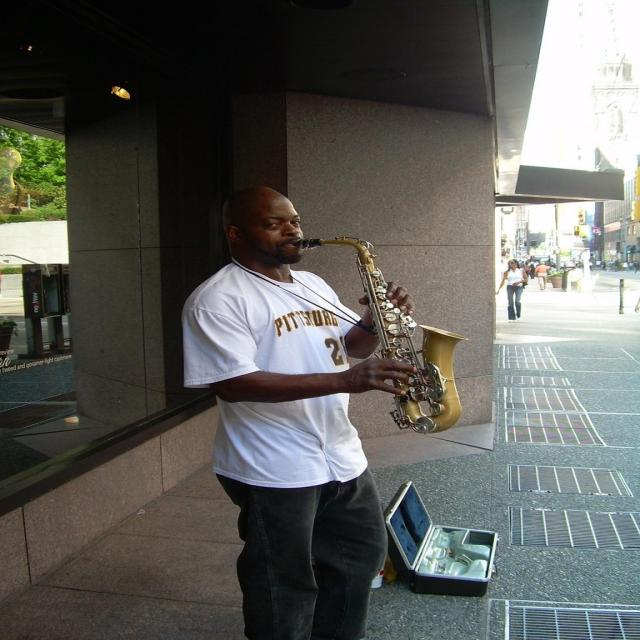saxophone: (292, 232, 472, 438)
